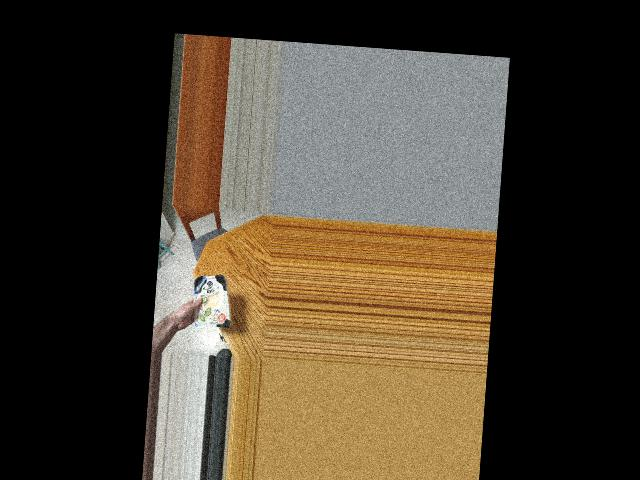cheese: (185, 273, 233, 329)
